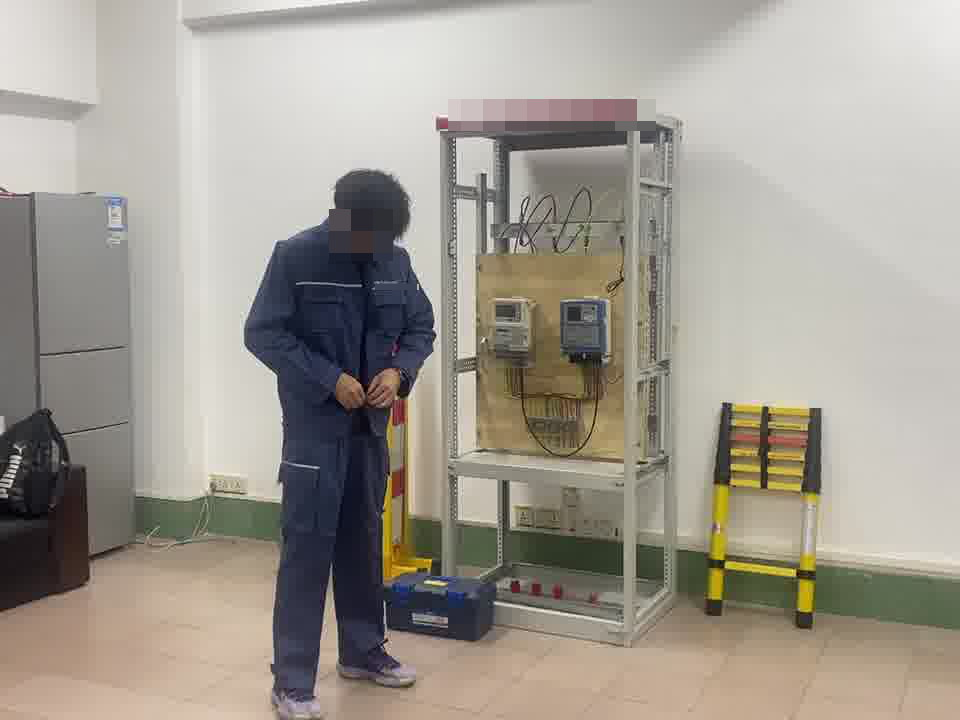downsuit: (268, 445, 396, 686)
hand: (334, 374, 367, 414), (370, 368, 403, 408)
person: (241, 165, 438, 712)
unhalt: (333, 169, 415, 254)
upsuit: (242, 215, 438, 417)
wrongsuit: (341, 260, 388, 438)
